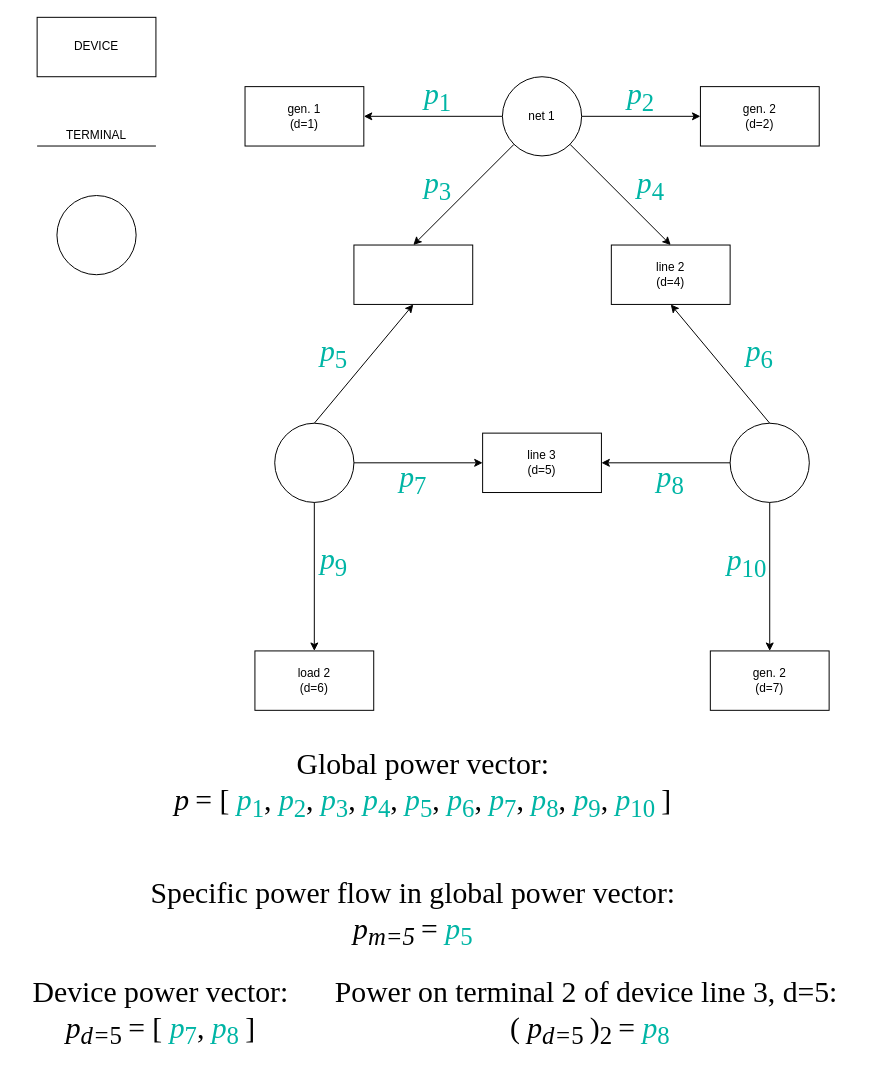
This 875x1068 diagram has some shape labels left out. Here are the shapes that lost their labels. From the top down, the centre of each, then its label:
the point at 96,235: NET
the point at 413,274: line 1 (d=3)
the point at 314,462: net 2
the point at 769,462: net 3
